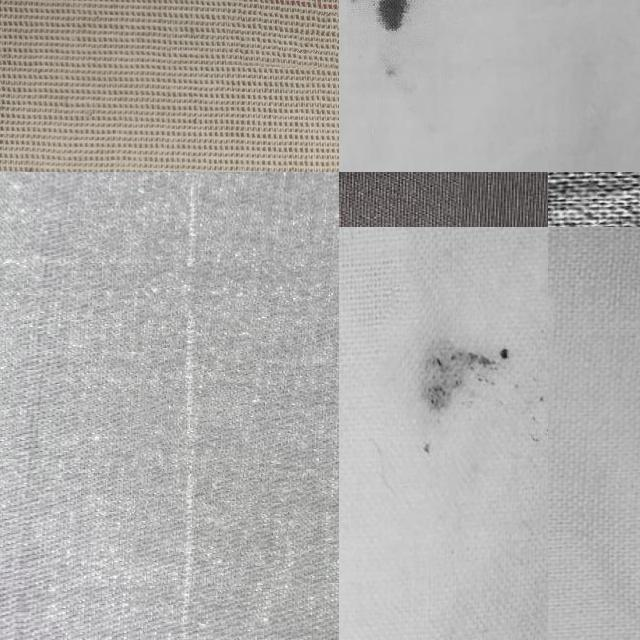Hole: (382, 286, 551, 528), (339, 0, 439, 93)
Thread_other: (132, 172, 319, 640), (227, 0, 339, 72)
